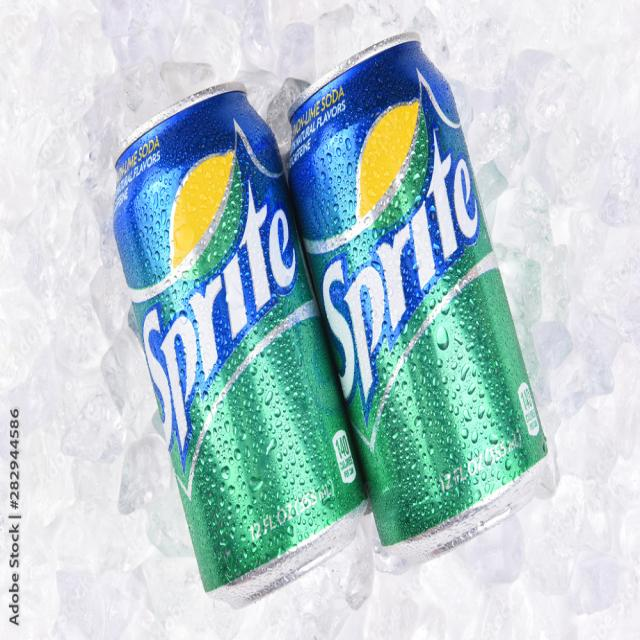sprite: (274, 40, 558, 546), (94, 101, 362, 595)
